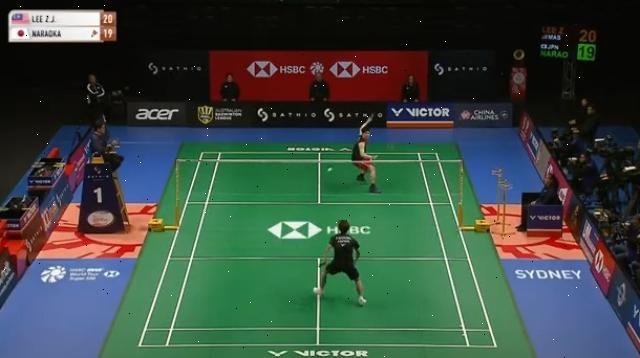Shuttlecock: (325, 164, 337, 176)
